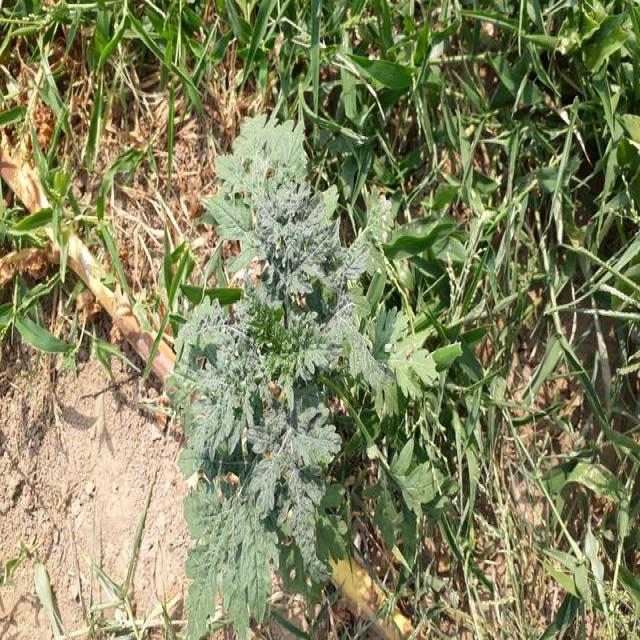weed: (395, 3, 640, 524), (0, 0, 381, 167)
